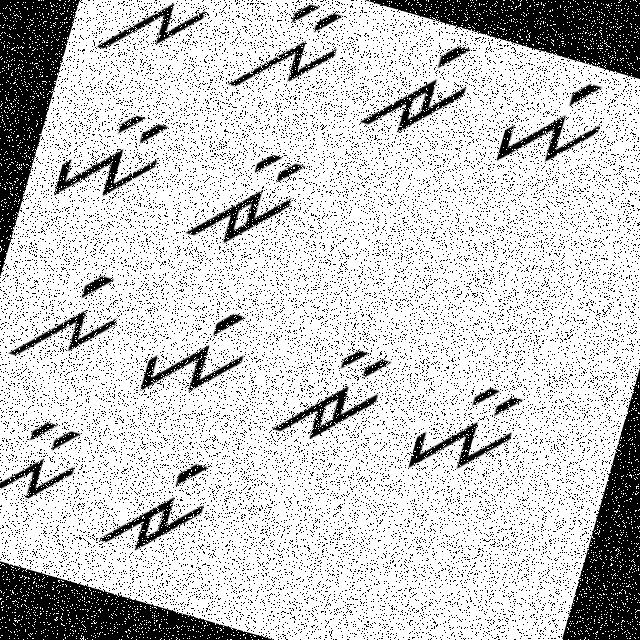lan: (219, 0, 358, 120), (0, 393, 98, 537)
lang: (0, 251, 136, 385), (79, 0, 224, 82)
ran: (180, 126, 324, 273), (262, 319, 398, 472)
rang: (94, 428, 232, 570), (359, 20, 492, 154)
yan: (396, 358, 548, 504), (40, 84, 182, 231)
yang: (127, 286, 265, 426), (484, 50, 618, 188)
